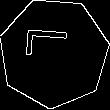L_E: (28, 36, 80, 70)
